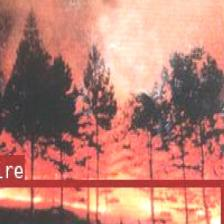fire: (0, 179, 224, 224)
